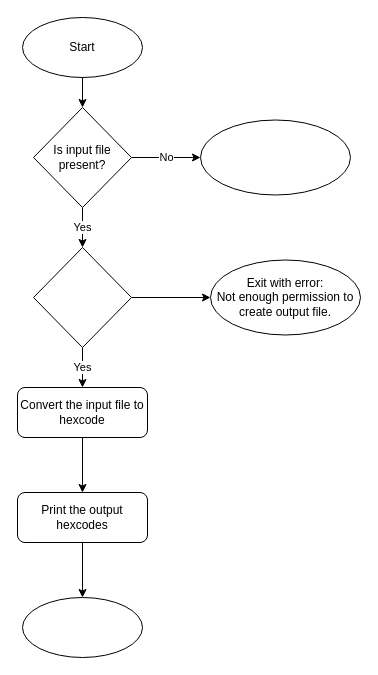
This 378x675 diagram has some shape labels left out. The centre of each missing label's shape, as x and y in pixels:
"Exit with error: No input file" belongs at (x=275, y=157).
"Is output file present?" belongs at (x=82, y=297).
"Stop" belongs at (x=82, y=627).
